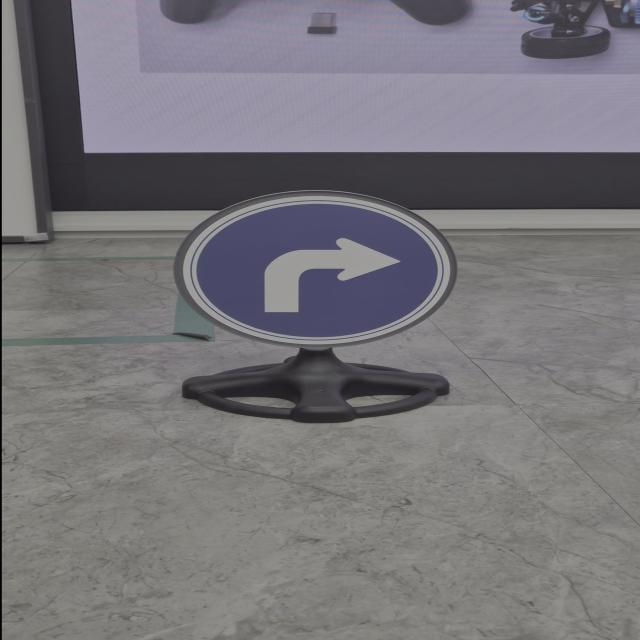right_dierection: (168, 185, 464, 352)
